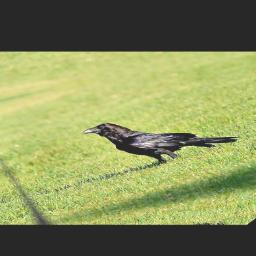Crow: (75, 97, 247, 177)
